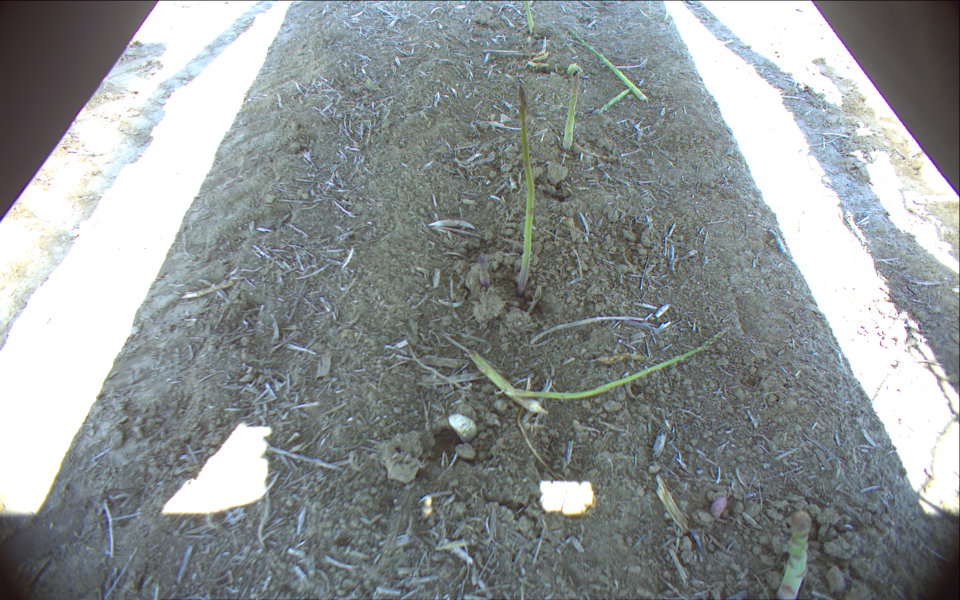aspa: (508, 83, 540, 296), (774, 509, 813, 600), (558, 62, 581, 155), (522, 1, 538, 37)
